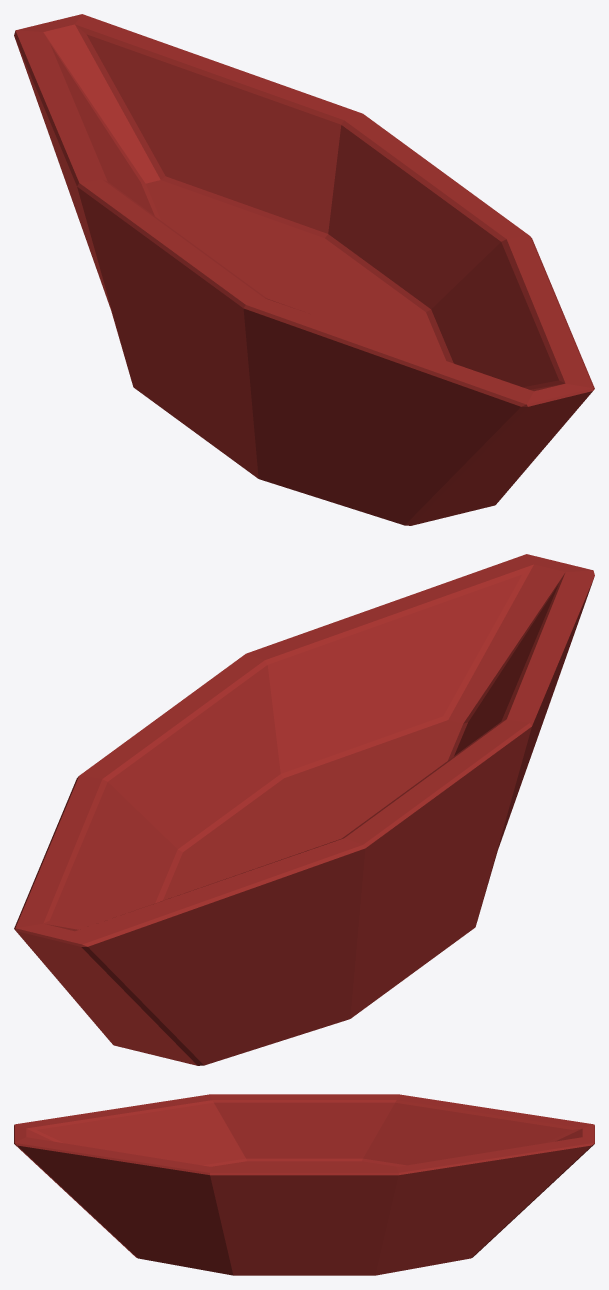
File: barco 1.fbx
3 views of the same model, one above another, from view 1: azimuth 30°, elevation 25°; view 2: azimuth 150°, elevation 25°; view 3: azimuth 270°, elevation 25° (orthographic). The views are drawn at different scales.
Visible parts, largest first — view 1: Cube; view 2: Cube; view 3: Cube.
Part boxes in pixels (x1,y1,x2,y2): Cube: (14, 14, 594, 525); Cube: (14, 554, 594, 1065); Cube: (14, 1094, 594, 1275).
Size of the model in its own units: 99.62 by 65.65 by 306.
